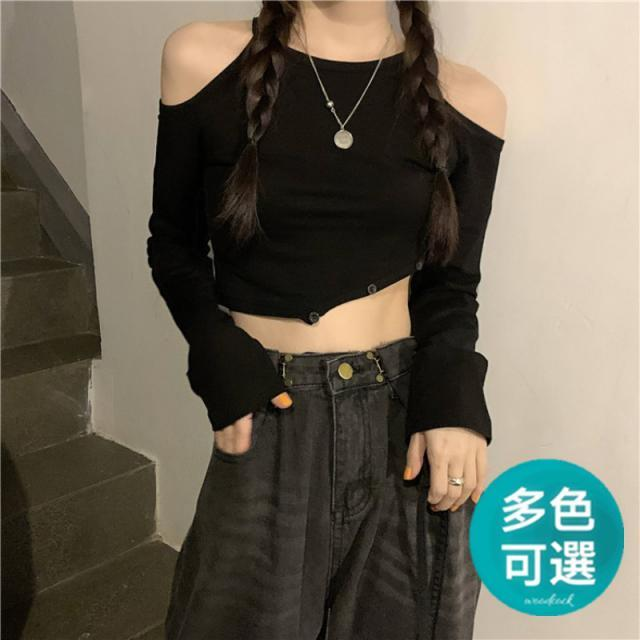Shirt: (143, 12, 507, 438)
